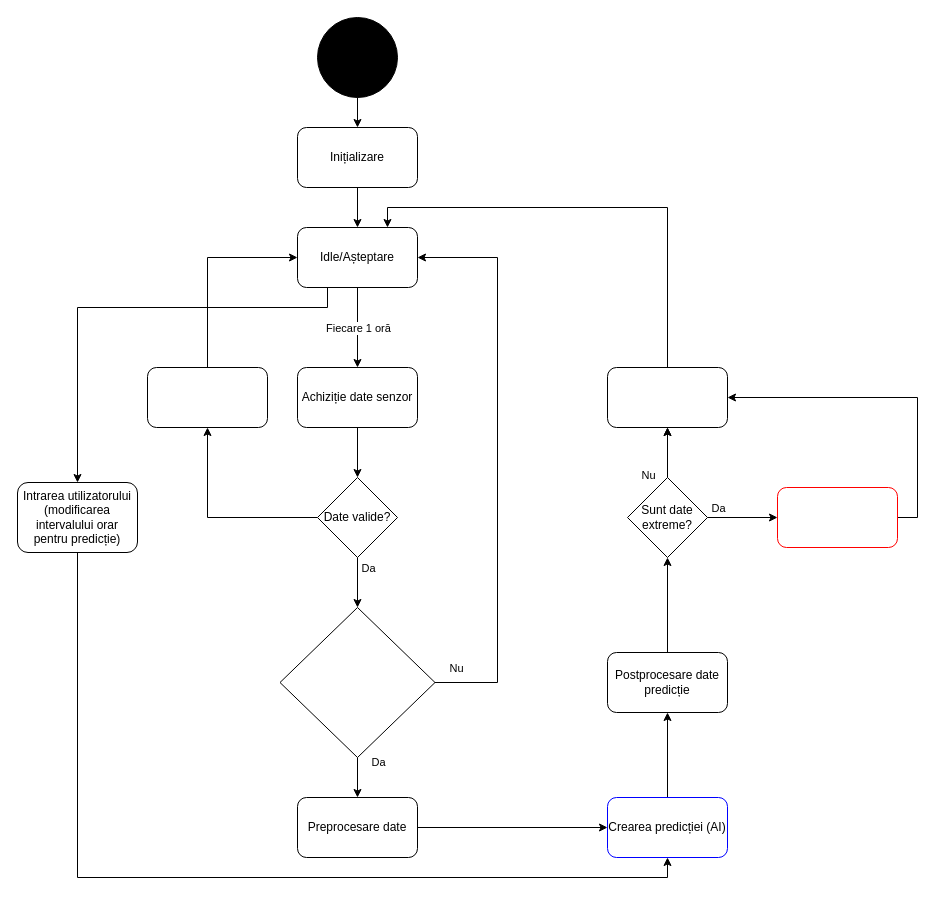
Some shapes in this 943 by 903 pixel diagram are drawn without their labels. Each missing label, with the centre of its shape:
Actualizează tabloul de bord: point (667, 397)
Date destule în baza de date? (ex: minim 24 ore de date): point (357, 682)
Declanșează alertă: point (837, 517)
Start: point (357, 57)
Înregistrarea datelor senzorului (error log): point (207, 397)
